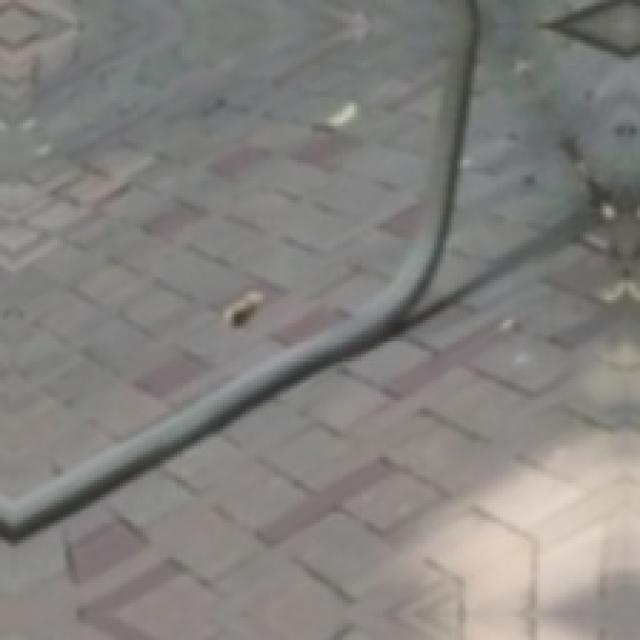king cobra: (0, 0, 477, 534)
